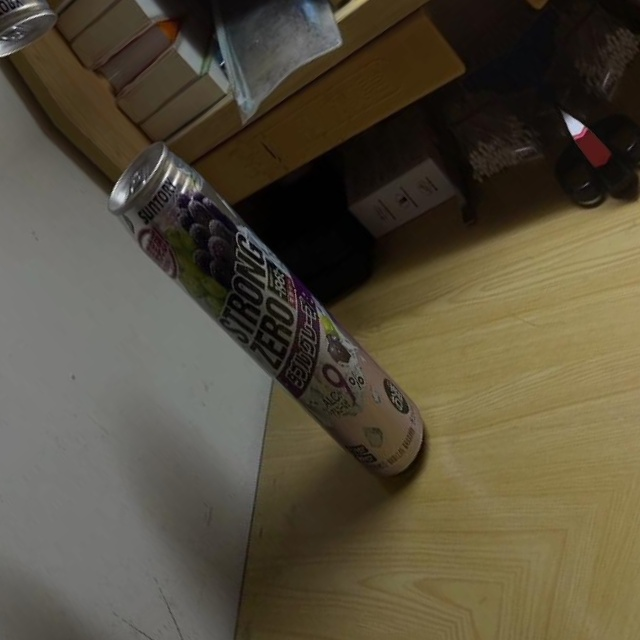Liquor: (90, 113, 450, 512)
